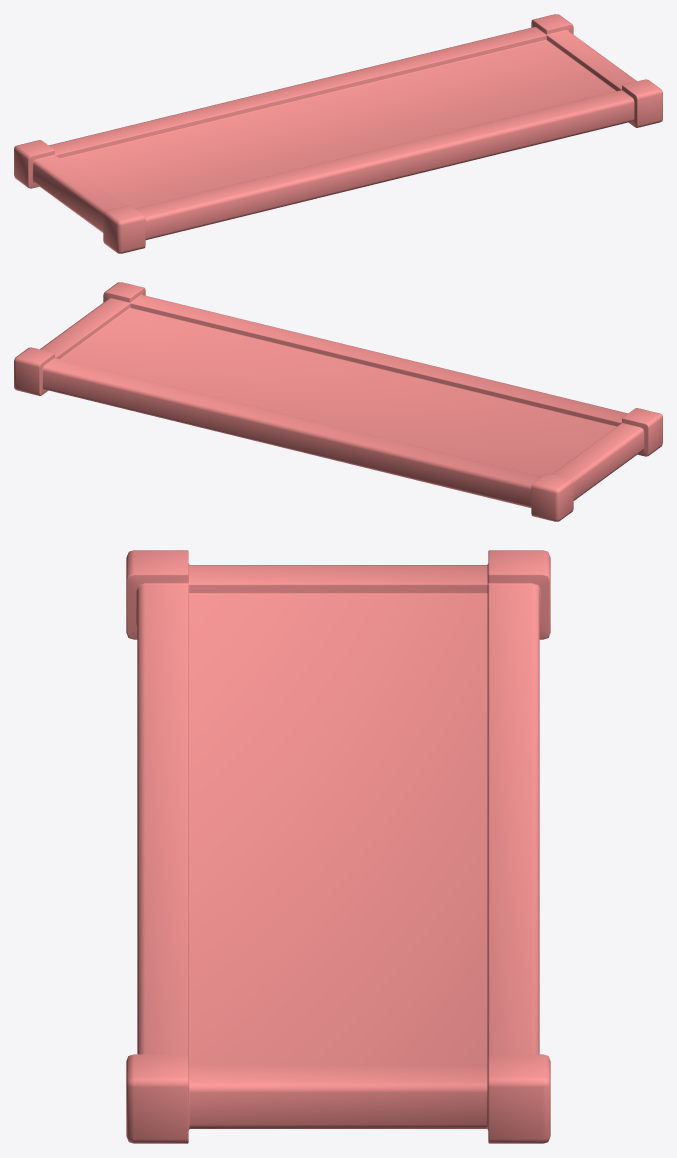
Rendered from sub_WoodPlank.fbx.
The picture shows the model from 3 angles, top to bottom: view 1: azimuth 30°, elevation 25°; view 2: azimuth 150°, elevation 25°; view 3: azimuth 270°, elevation 25°; orthographic projection. The views are drawn at different scales.
Visible parts, largest first — view 1: sub_Plank1; view 2: sub_Plank1; view 3: sub_Plank1.
Part boxes in pixels (x1,y1,x2,y2): sub_Plank1: [14, 14, 662, 253]; sub_Plank1: [14, 282, 662, 521]; sub_Plank1: [126, 550, 550, 1143].
Size of the model in its own units: 65.21 by 3.78 by 21.97.
